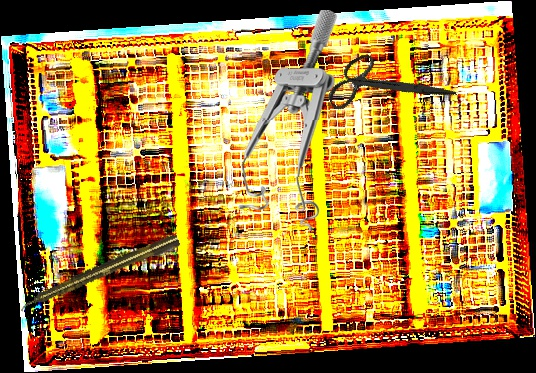Handpiece: (16, 232, 182, 314)
Iris Scissors: (318, 24, 457, 149)
Speculum: (236, 8, 339, 232)
